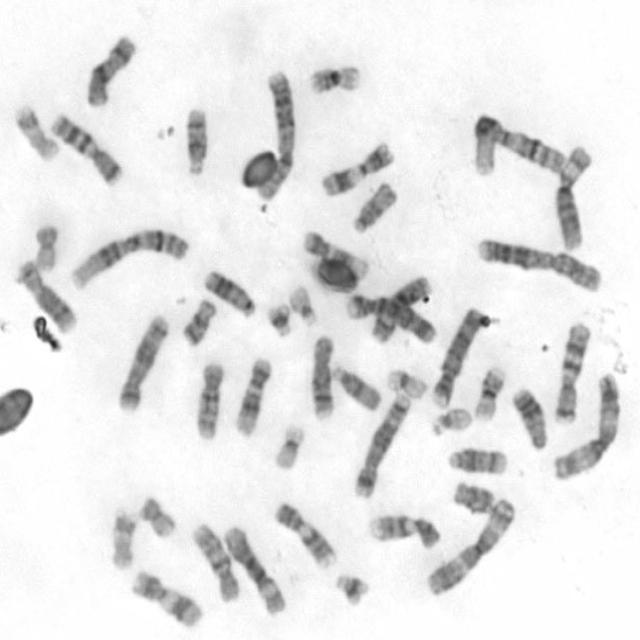A1: (66, 222, 190, 292), (467, 110, 569, 180)
A2: (472, 231, 603, 293), (252, 67, 296, 202)
A3: (423, 493, 517, 598), (548, 369, 622, 481)
B4: (428, 302, 487, 409), (342, 288, 438, 344)
B5: (350, 386, 412, 500), (114, 310, 171, 414)
C10: (188, 517, 240, 604), (191, 357, 227, 443)
C11: (127, 566, 206, 628), (316, 138, 396, 198)
C12: (298, 224, 369, 291), (231, 354, 273, 438)
C6: (220, 521, 287, 618), (550, 140, 594, 252)
C7: (46, 107, 124, 188), (550, 318, 592, 425)
C8: (14, 256, 77, 334), (306, 329, 336, 423)
C9: (271, 498, 339, 568), (364, 509, 442, 551)
D13: (201, 265, 256, 320), (510, 383, 550, 452)
D14: (444, 442, 508, 477), (181, 103, 211, 177)
D15: (328, 361, 383, 412), (348, 178, 398, 234)
E16: (470, 362, 508, 422), (303, 59, 363, 97)
E17: (11, 100, 60, 164), (104, 503, 138, 572)
E18: (178, 295, 217, 347), (449, 477, 495, 515)
F19: (270, 419, 308, 473), (383, 363, 429, 401)
F20: (134, 490, 178, 540), (31, 218, 60, 274)
G21: (332, 568, 371, 610), (264, 298, 294, 338)
G22: (427, 403, 474, 438), (286, 280, 320, 327)
X: (367, 271, 435, 346), (82, 29, 137, 109)
